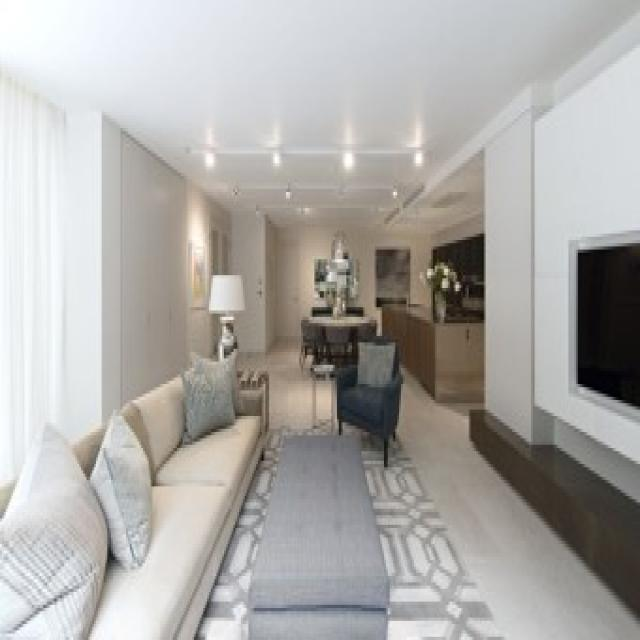Chair: (334, 330, 404, 450)
Sofa: (10, 359, 259, 635)
Table: (257, 422, 384, 630)
tv: (564, 239, 640, 408)
